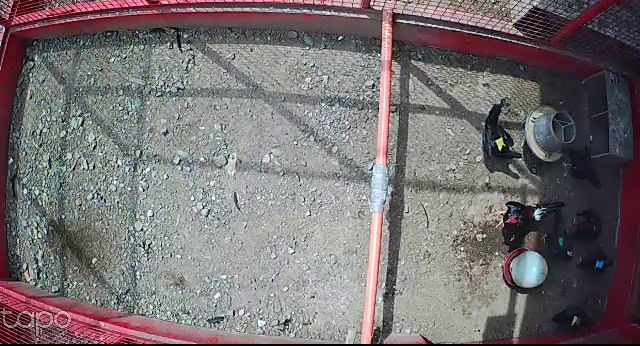Chicken: (481, 102, 524, 162), (573, 248, 614, 274), (569, 209, 600, 241)
Drinker: (502, 249, 549, 289)
Feeder: (526, 103, 576, 163)
Rooster: (489, 196, 563, 237)
Saddle_Color_Blue: (596, 260, 604, 268)
Saddle_Color_Yellow: (496, 137, 504, 151)
